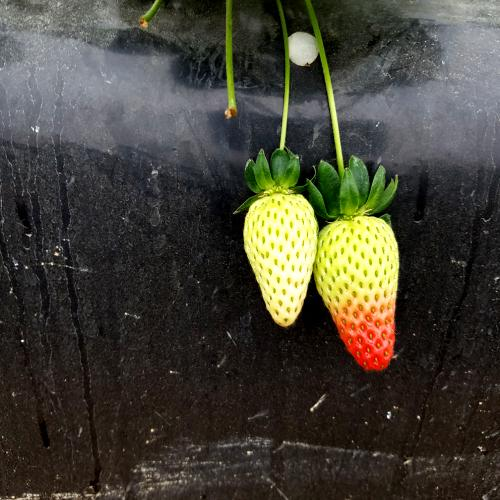partially-ripe: (314, 217, 410, 384)
unripe: (236, 179, 323, 342)
